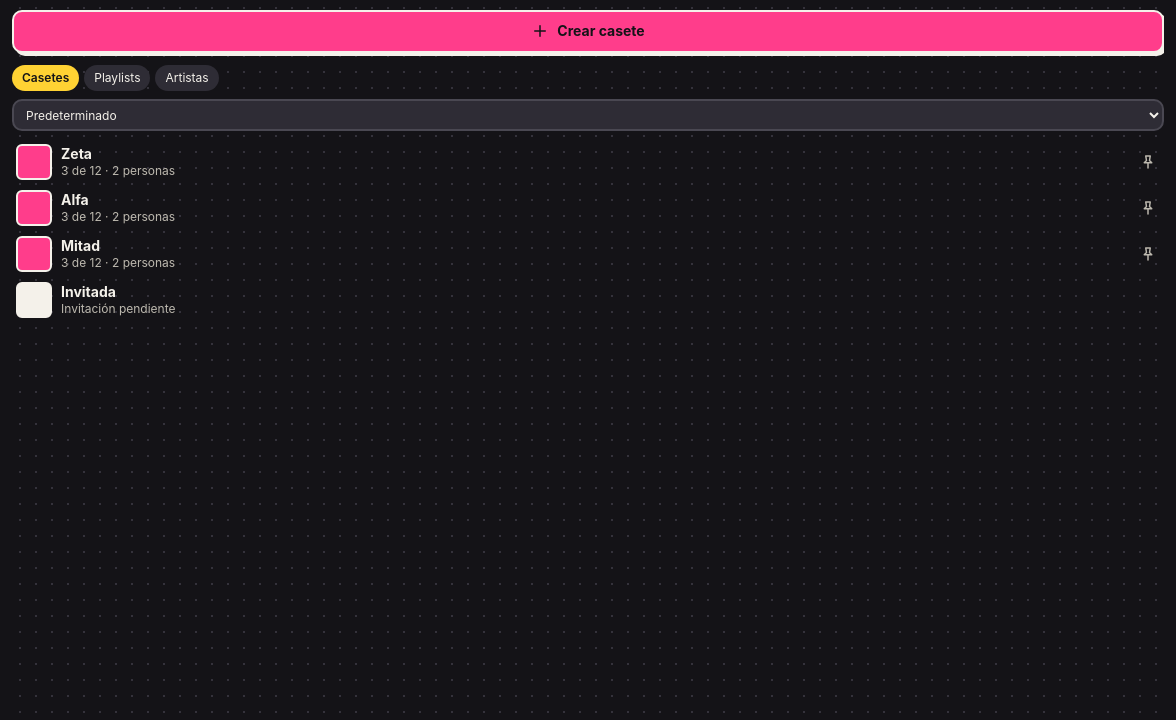
Test: los artistas también se fijan
Click the button "Artistas": point(187, 78) [156, 65, 219, 91]
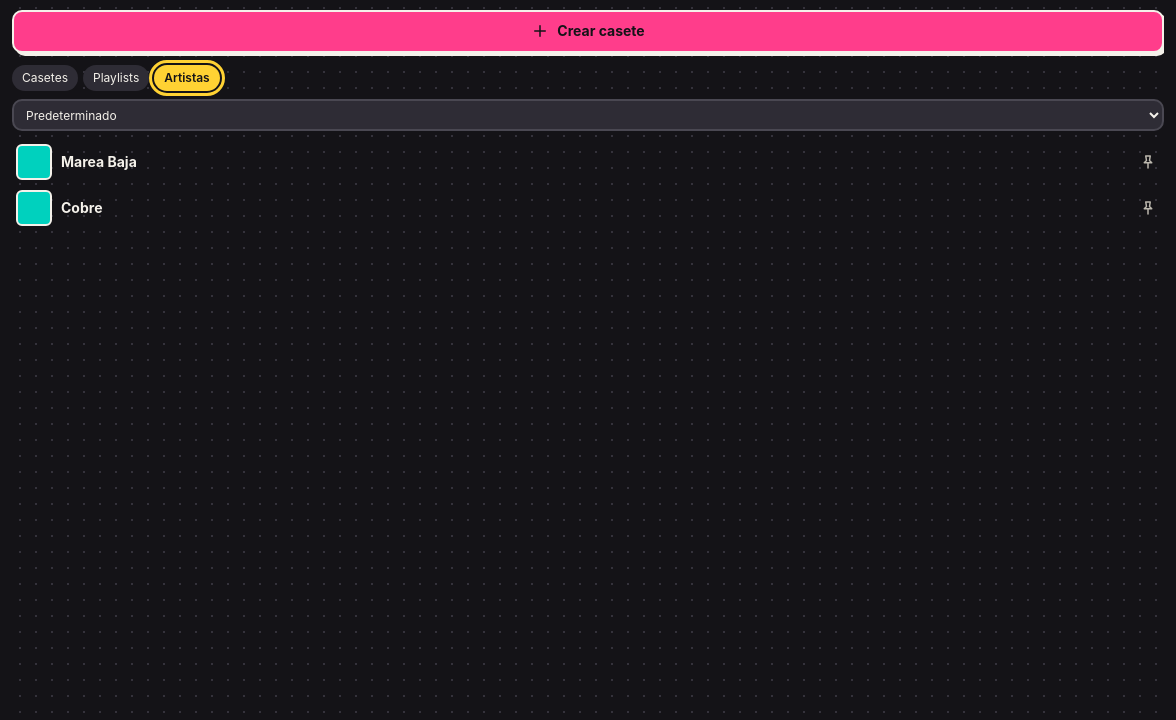
Expected: the text "Marea Baja" is shown, [61, 153, 137, 170]
Click the button named "Fijar Cobre": point(1148, 208) [1132, 192, 1164, 224]
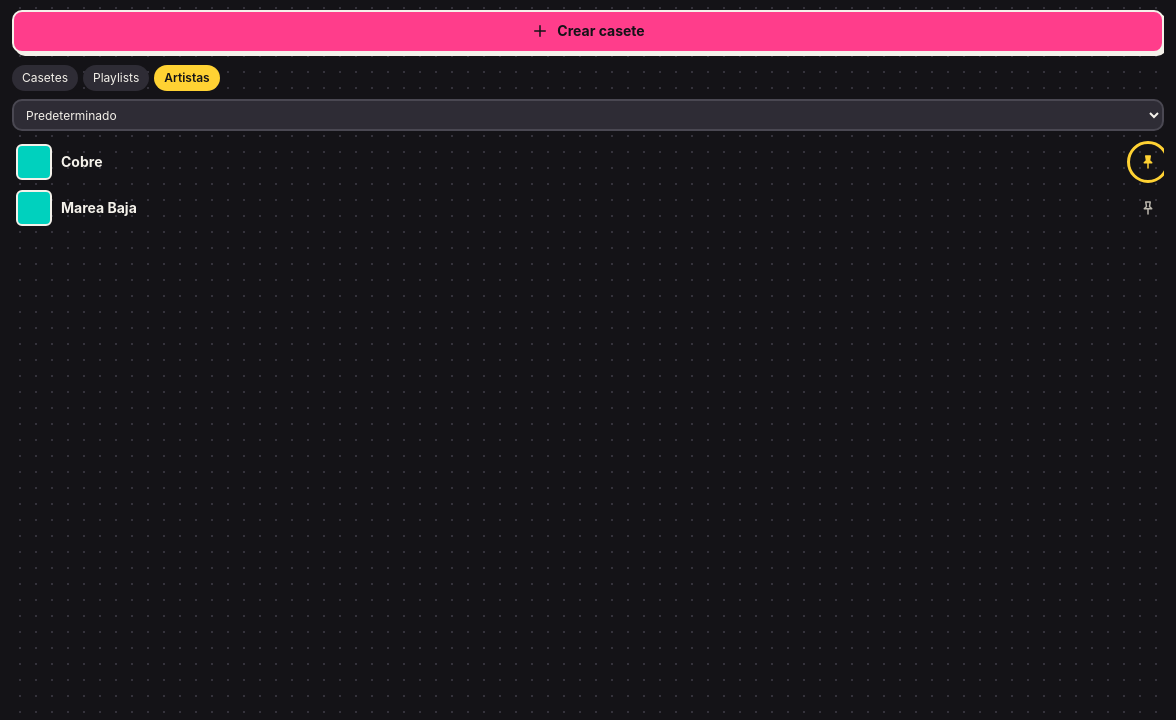
Expected: the links read "Cobre", "Marea Baja", in this order, [16, 144, 102, 180]; [16, 190, 137, 226]
